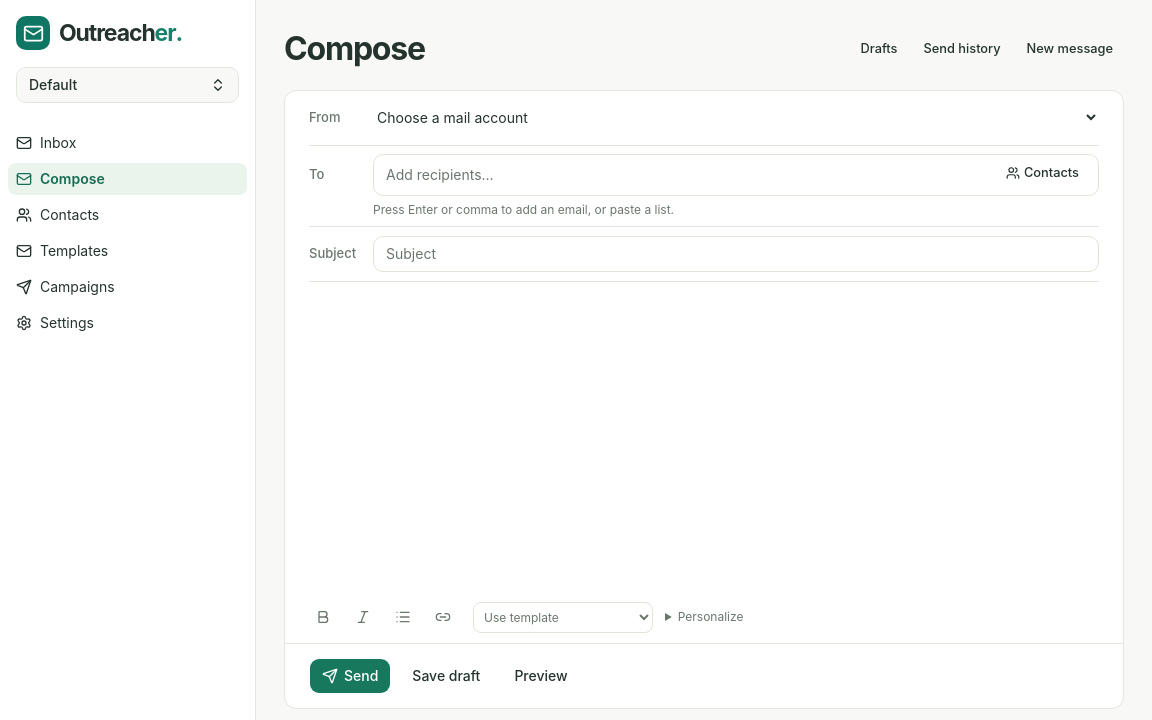
Test: waits for a draft save before submitting and reuses its ID after an explicit failed-send retry
The image size is (1152, 720).
Select "Primary — sender@example.com" in the dropdown named "Mail account" at (736, 118), box x1=373 y1=96 x2=1099 y2=139
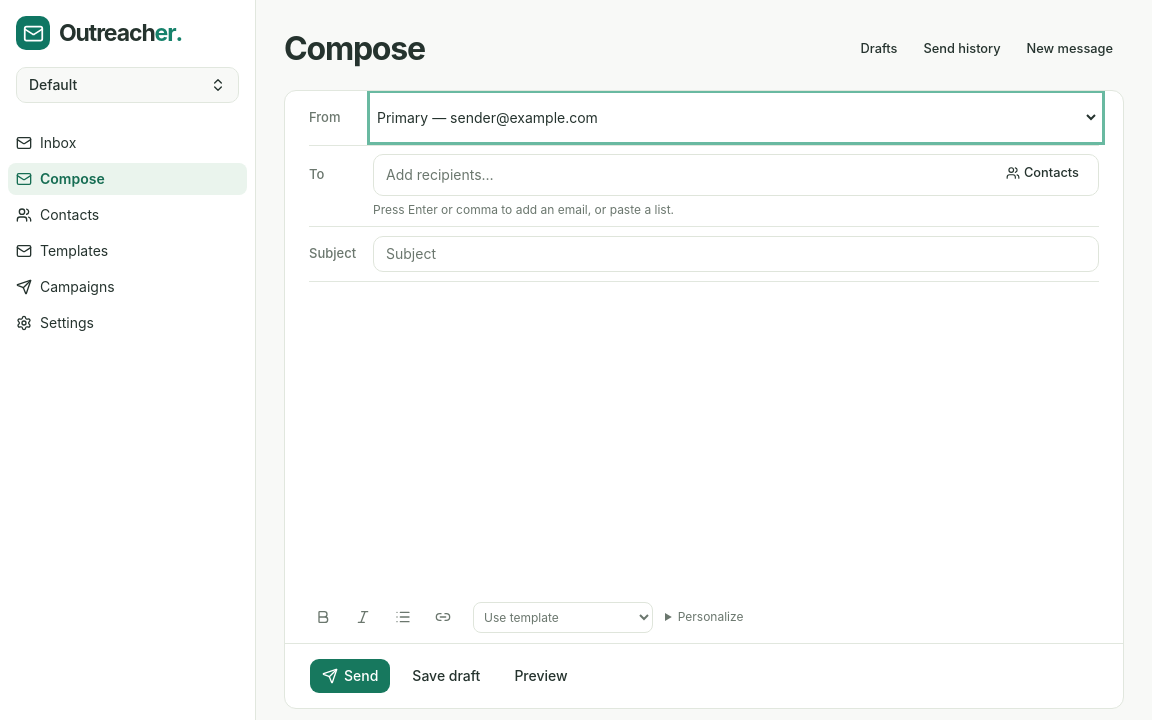
Type "person@example.com" into the field named "Email addresses" at (684, 175), box x1=382 y1=159 x2=987 y2=191
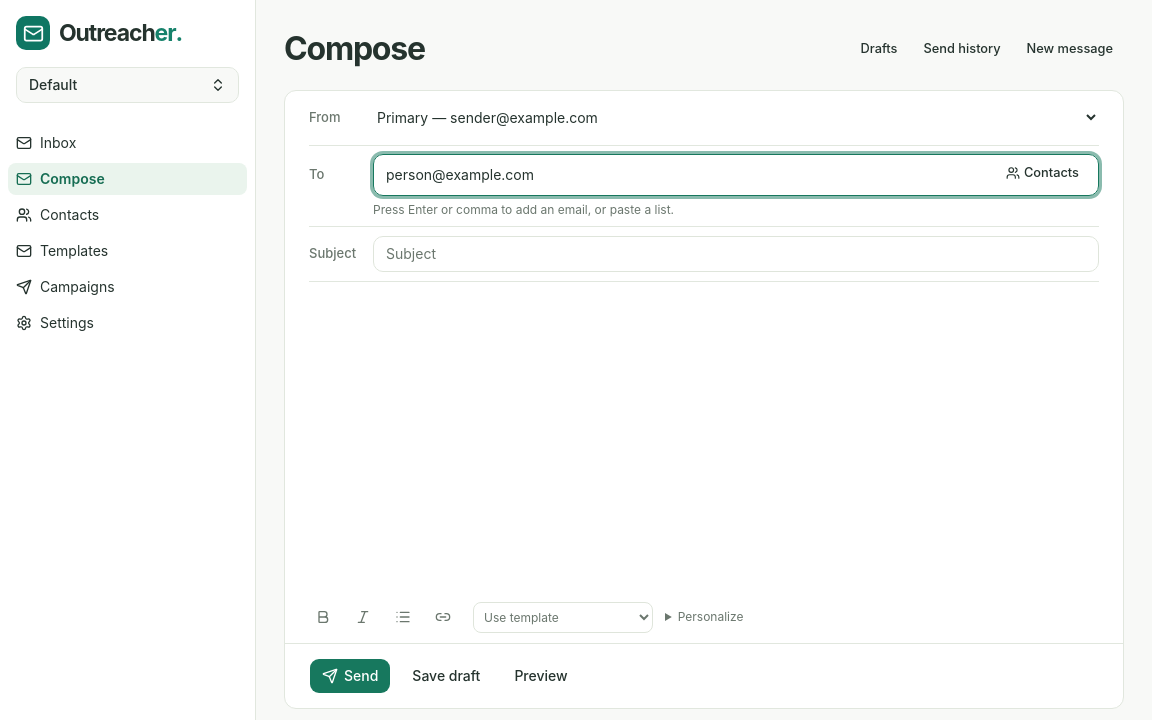
Click the button with aria-label "Review and send" at (350, 676), box x1=309 y1=658 x2=391 y2=694
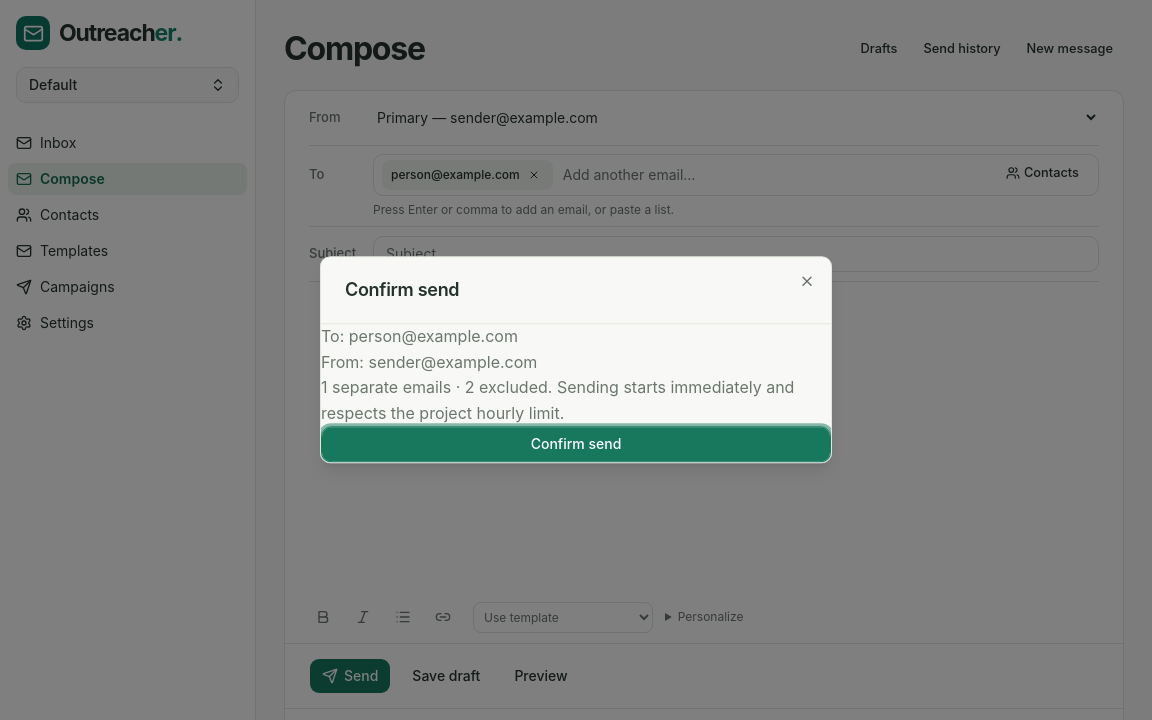
Click the button "Confirm send" at (576, 445), box x1=321 y1=427 x2=831 y2=463
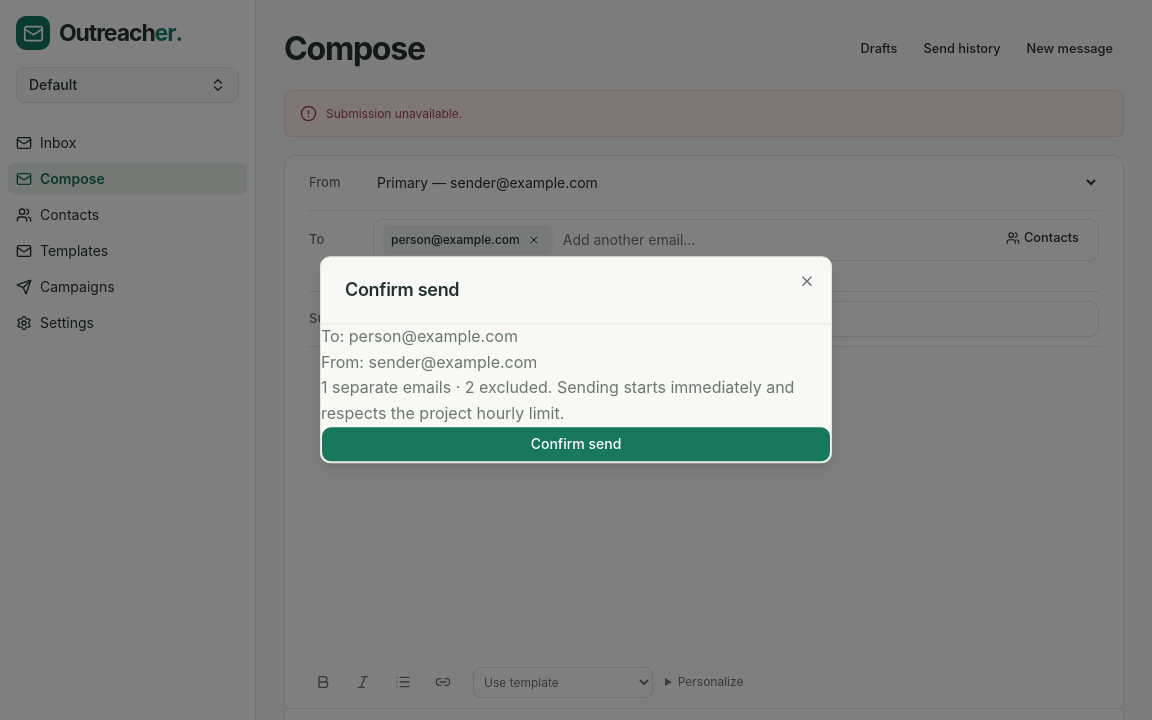
Expected: the text "Submission unavailable." is shown, x1=326 y1=106 x2=462 y2=121
Click the button "Confirm send" at (576, 445), box x1=321 y1=427 x2=831 y2=463
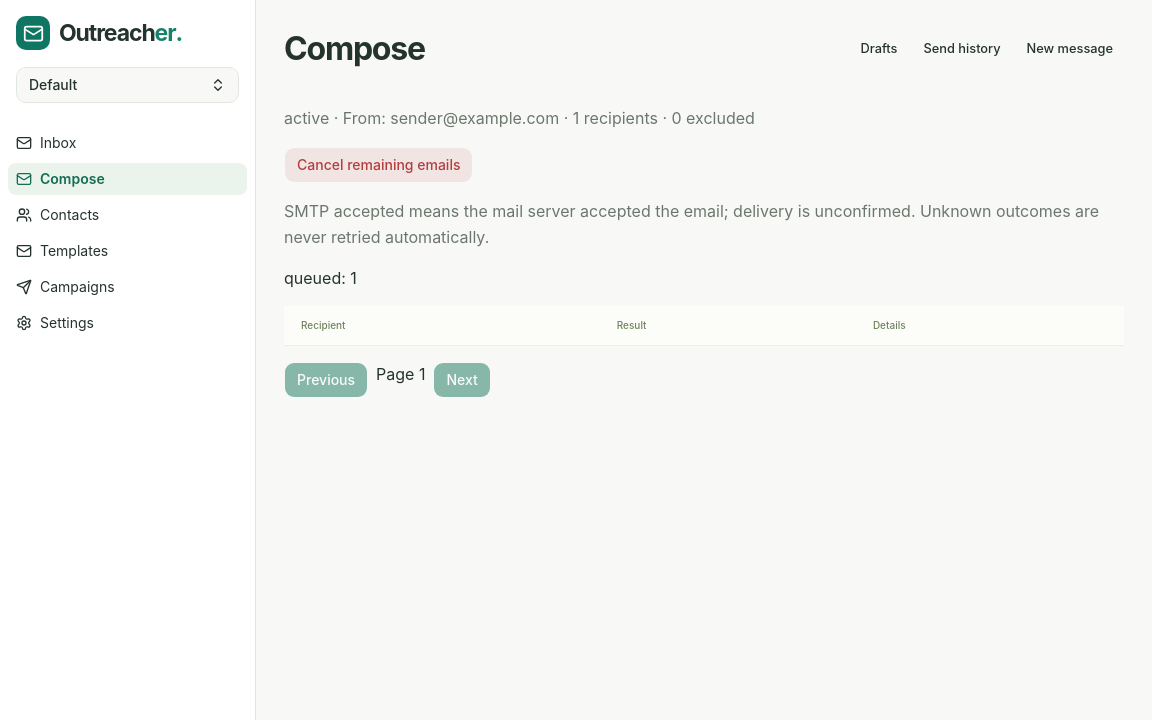
Expected: the text "delivery is unconfirmed" is shown, x1=284 y1=201 x2=1099 y2=247
